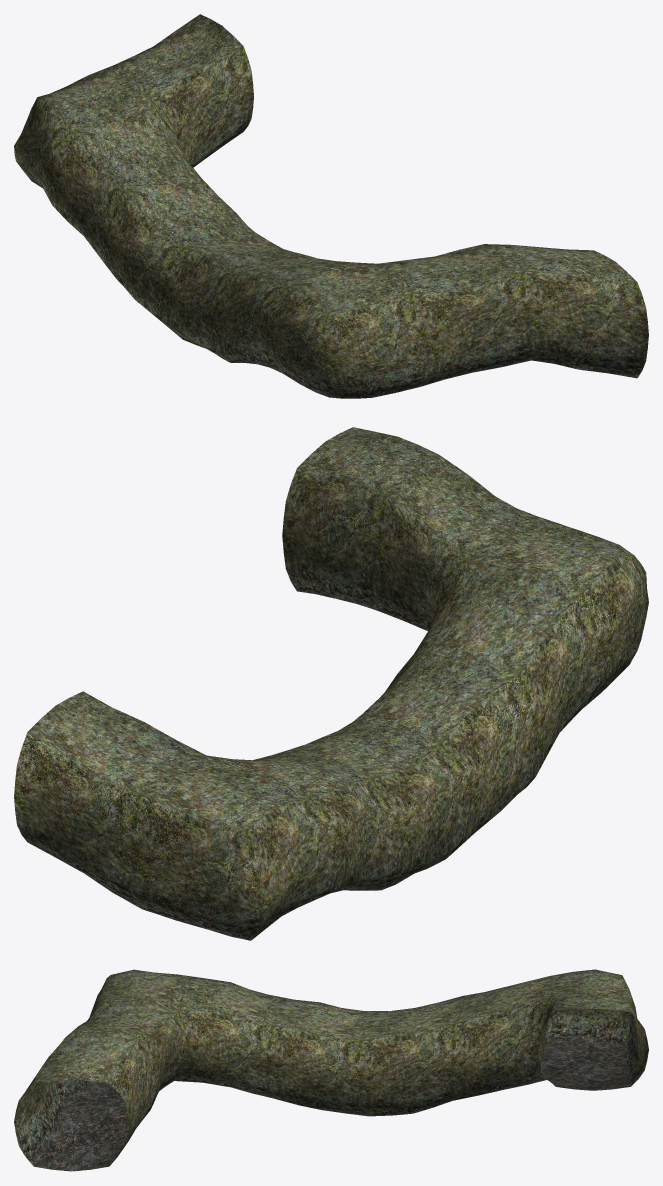
The model's file is thm_all_cave_s03_damprock_mirror_r14_r14.fbx.
3 renders of one model, top to bottom at view 1: azimuth 30°, elevation 25°; view 2: azimuth 150°, elevation 25°; view 3: azimuth 270°, elevation 25°, orthographic. The views are drawn at different scales.
Visible parts, largest first — view 1: mesh_node; view 2: mesh_node; view 3: mesh_node.
Boxes of the visible parts, bbox=[...] form: mesh_node: bbox=[14, 14, 648, 398]; mesh_node: bbox=[14, 427, 648, 940]; mesh_node: bbox=[14, 969, 648, 1171].
Size of the model in its own units: 25.32 by 15.04 by 55.57.
